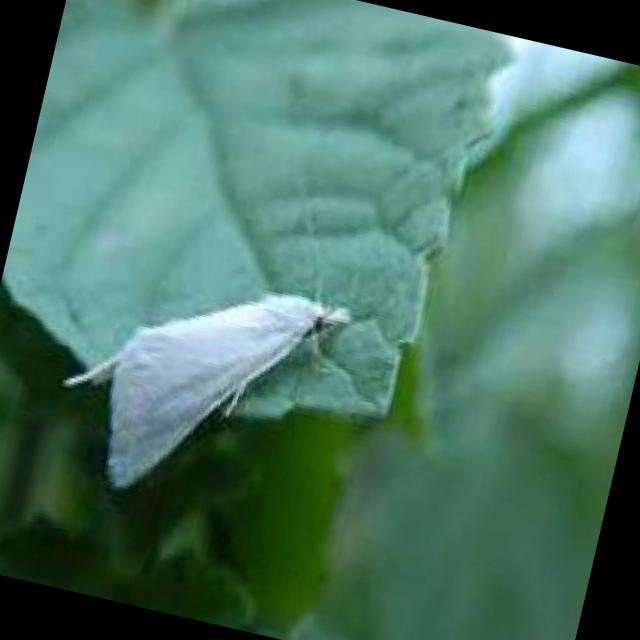stem-borer: (34, 237, 358, 540)
